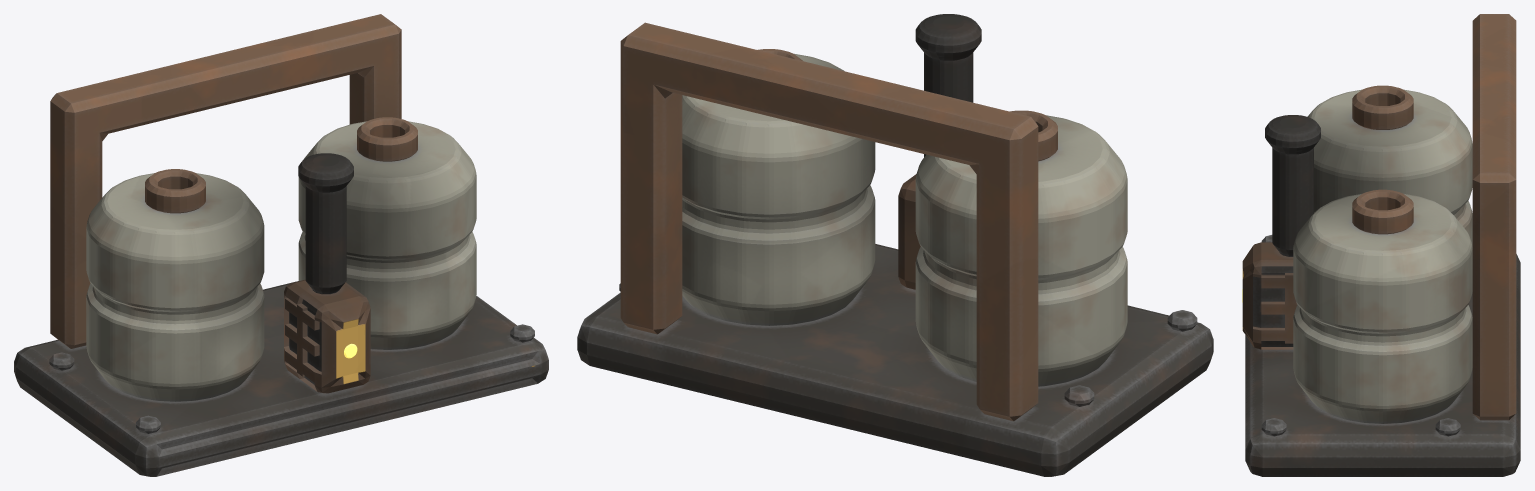
File: generator.glb
The picture shows the model from 3 angles, left to right: view 1: azimuth 30°, elevation 25°; view 2: azimuth 150°, elevation 25°; view 3: azimuth 270°, elevation 25°; orthographic projection. The views are drawn at different scales.
Visible parts, largest first — view 1: Generator; view 2: Generator; view 3: Generator.
Boxes of the visible parts, x1,y1,x2,y2 form: Generator: (14,14,548,476); Generator: (577,14,1213,476); Generator: (1242,14,1520,476).
Size of the model in its own units: 3.3 by 2.2 by 1.92.
1 material, 1 textured.
